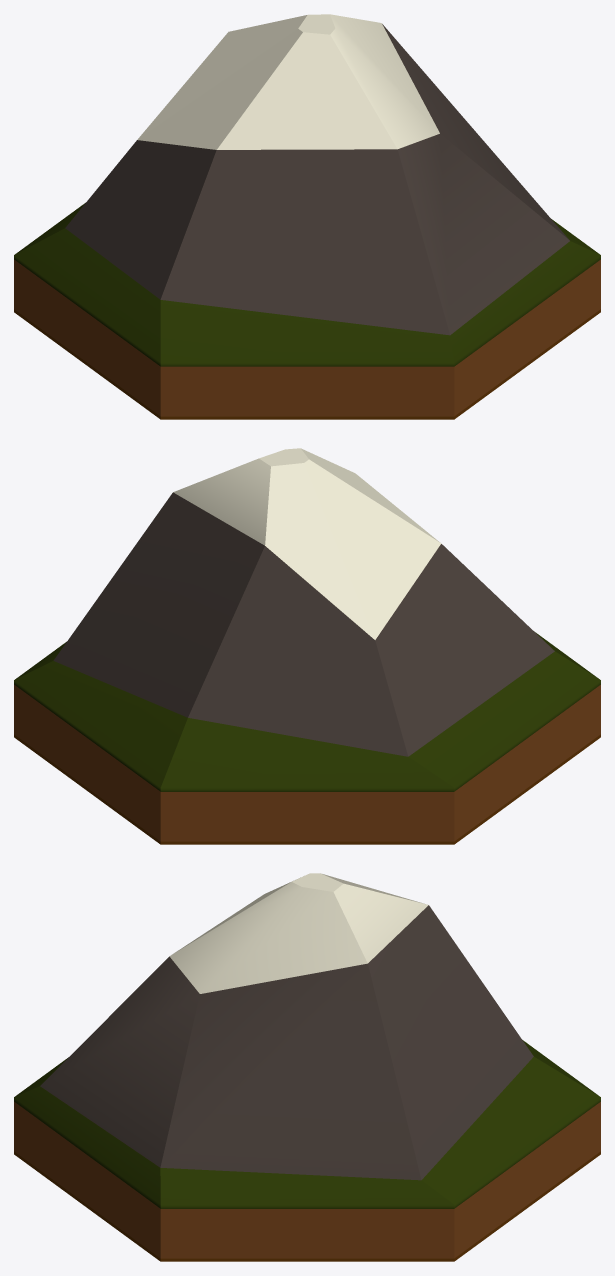
The model's file is mountain2.fbx.
3 views of the same model, one above another, from view 1: azimuth 30°, elevation 25°; view 2: azimuth 150°, elevation 25°; view 3: azimuth 270°, elevation 25° (orthographic).
Visible parts, largest first — view 1: pCylinder2; view 2: pCylinder2; view 3: pCylinder2.
Part boxes in pixels (<box>): pCylinder2: <box>14,14,600,419</box>; pCylinder2: <box>14,448,600,844</box>; pCylinder2: <box>14,873,600,1261</box>.
Size of the model in its own units: 1.73 by 1.05 by 2.
